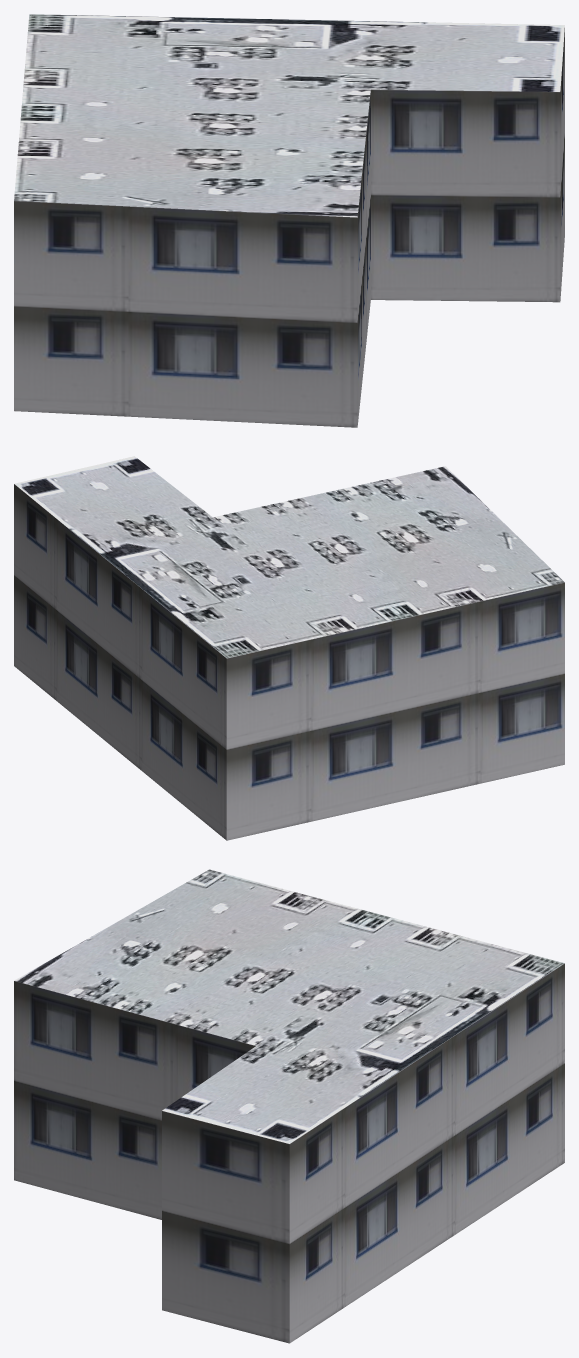
The model's file is ResTex__3383.fbx.
The picture shows the model from 3 angles, top to bottom: view 1: azimuth 30°, elevation 25°; view 2: azimuth 150°, elevation 25°; view 3: azimuth 270°, elevation 25°; orthographic projection. The views are drawn at different scales.
Visible parts, largest first — view 1: CityEngineMaterial_9_m, CityEngineMaterial_8_m; view 2: CityEngineMaterial_9_m, CityEngineMaterial_8_m; view 3: CityEngineMaterial_9_m, CityEngineMaterial_8_m.
Part boxes in pixels (box(x1,y1,x2,y2)): CityEngineMaterial_9_m: box(14, 28, 564, 427); CityEngineMaterial_8_m: box(14, 14, 564, 217); CityEngineMaterial_9_m: box(14, 484, 564, 840); CityEngineMaterial_8_m: box(14, 456, 564, 658); CityEngineMaterial_9_m: box(14, 963, 564, 1343); CityEngineMaterial_8_m: box(14, 869, 564, 1143).
Size of the model in its own units: 17.72 by 6 by 15.02.
Materials: 2 (2 with a texture image).
